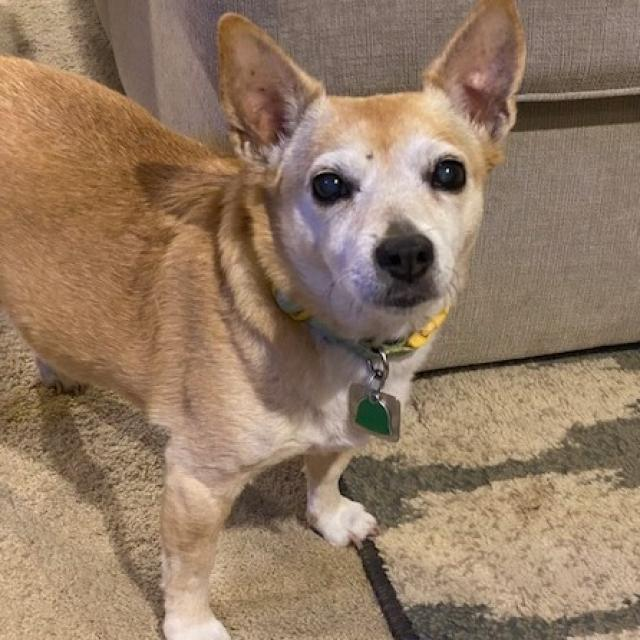corgi_dog: (197, 4, 546, 357)
